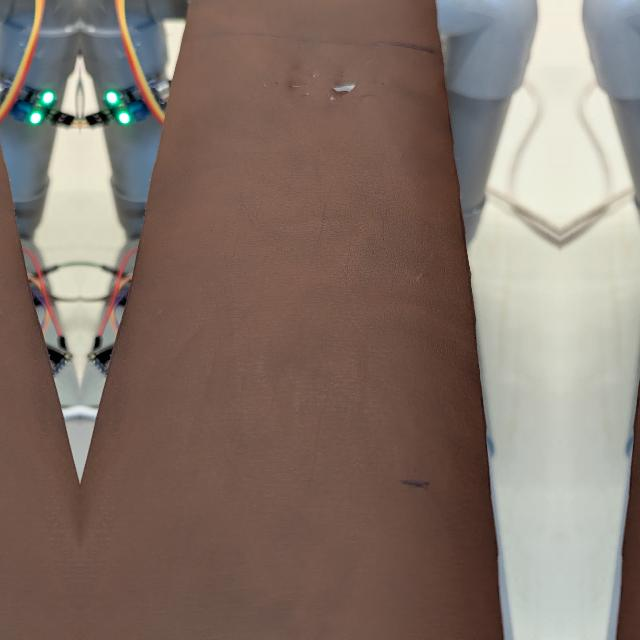belt_crack: (268, 42, 403, 118)
